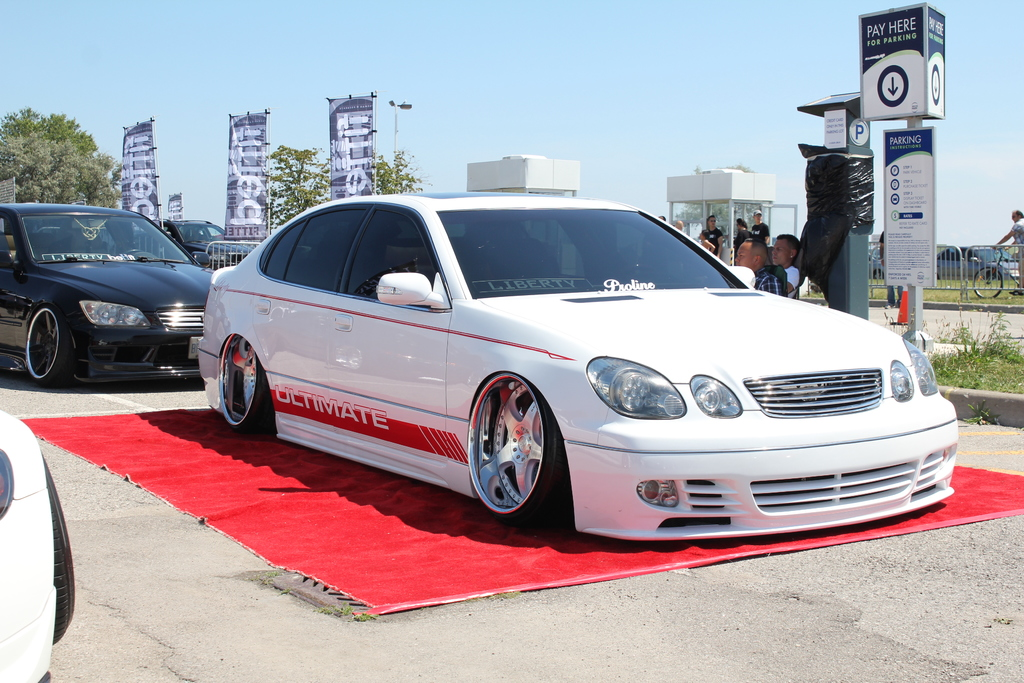Car: (195, 187, 961, 546), (0, 197, 211, 387), (159, 216, 264, 270)
